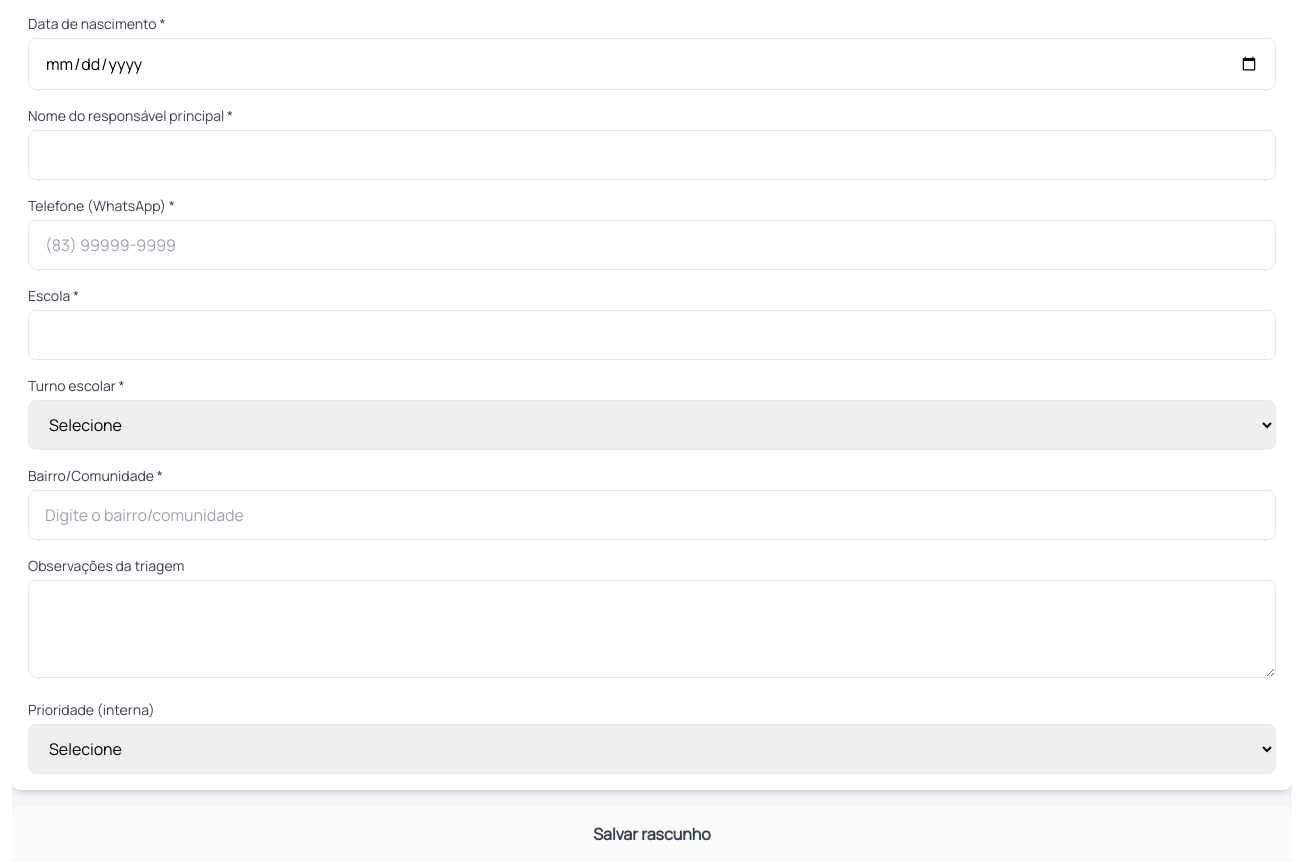
it: AddChildView › shows sync error when save fails
(page scrolled)
Click the button "Salvar rascunho".
click(652, 834)  # box [12,806,1292,861]
(page scrolled)
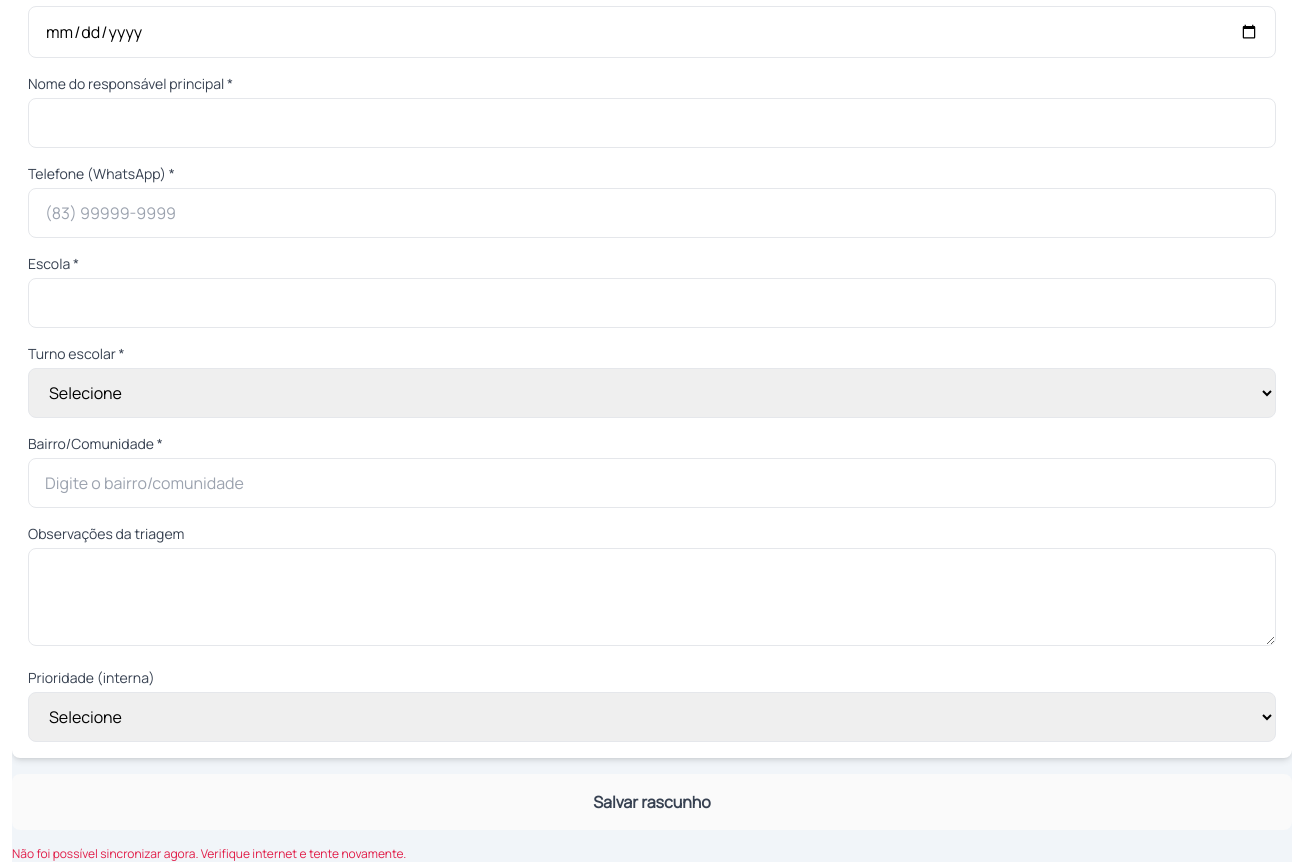
Check: the text "Não foi possível sincronizar agora. Verifique internet e tente novamente." is shown, box [12,845,406,861]
